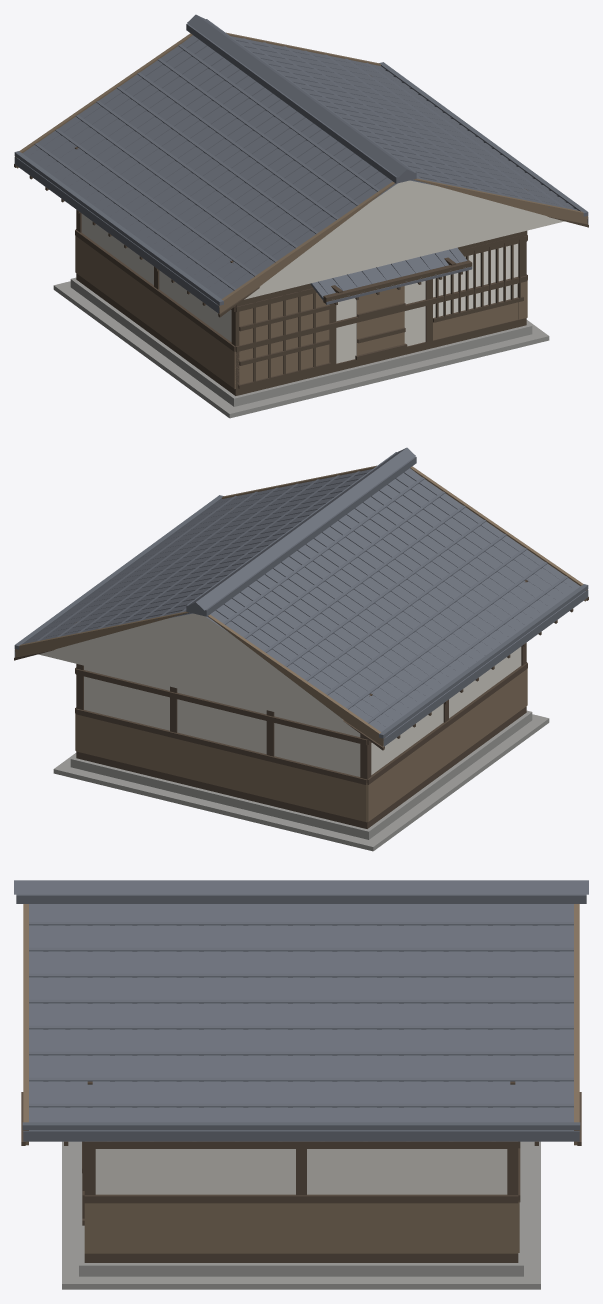
The model's file is pilot_silhouette_gable_01.glb.
3 views of the same model, one above another, from view 1: azimuth 30°, elevation 25°; view 2: azimuth 150°, elevation 25°; view 3: azimuth 270°, elevation 25° (orthographic). The views are drawn at different scales.
Parts seen in each view (by area): view 1: pilot_silhouette_gable_01; view 2: pilot_silhouette_gable_01; view 3: pilot_silhouette_gable_01.
Boxes of the visible parts, x1=… form: pilot_silhouette_gable_01: x1=14, y1=14, x2=588, y2=418; pilot_silhouette_gable_01: x1=14, y1=447, x2=588, y2=851; pilot_silhouette_gable_01: x1=14, y1=880, x2=588, y2=1289.
Size of the model in its own units: 7.94 by 4.59 by 7.88.
